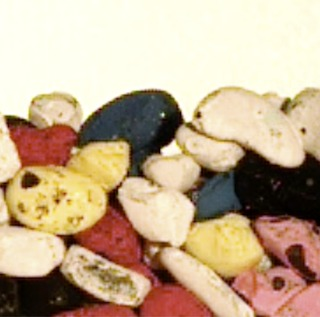black: (234, 149, 320, 221)
blue: (78, 90, 183, 160), (192, 172, 242, 220)
pink: (254, 217, 320, 283)
red: (76, 209, 145, 265), (12, 127, 77, 164)
white: (197, 88, 304, 166), (157, 246, 254, 317), (62, 243, 150, 307), (118, 176, 192, 247), (173, 125, 243, 172), (142, 155, 200, 194), (29, 92, 82, 133)
yellow: (7, 165, 107, 234), (189, 209, 262, 280), (69, 140, 129, 189)
